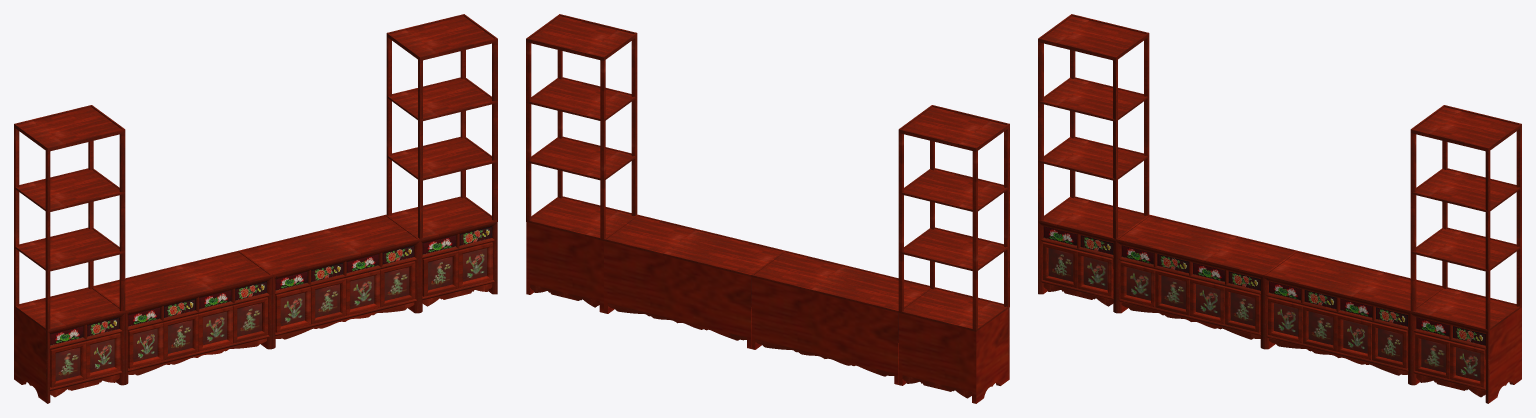
Rendered from Chiffonier_02.FBX.
The picture shows the model from 3 angles, left to right: view 1: azimuth 30°, elevation 25°; view 2: azimuth 150°, elevation 25°; view 3: azimuth 330°, elevation 25°; orthographic projection.
Parts seen in each view (by area): view 1: Chiffonier_02; view 2: Chiffonier_02; view 3: Chiffonier_02.
Boxes of the visible parts, box(x1,y1,x2,y2) form: Chiffonier_02: box(14, 14, 497, 403); Chiffonier_02: box(526, 14, 1009, 403); Chiffonier_02: box(1038, 14, 1521, 403).
Bounding box in the file's own units: 254 × 138 × 32.86.
